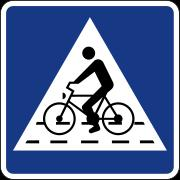Cycle Crossing: (15, 14, 168, 156)
